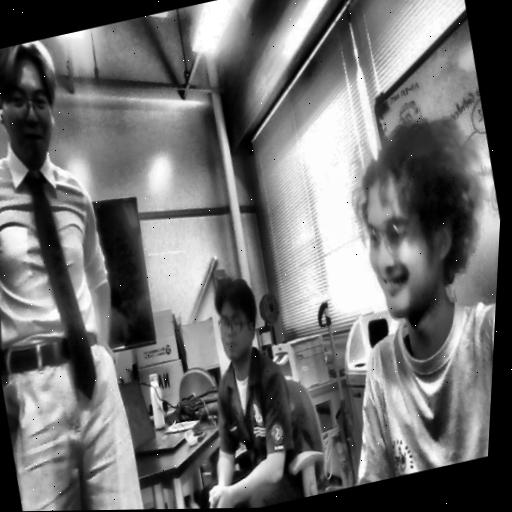Daifuku: (332, 111, 504, 338)
Not Daifuku: (0, 36, 76, 171), (201, 268, 272, 378)
